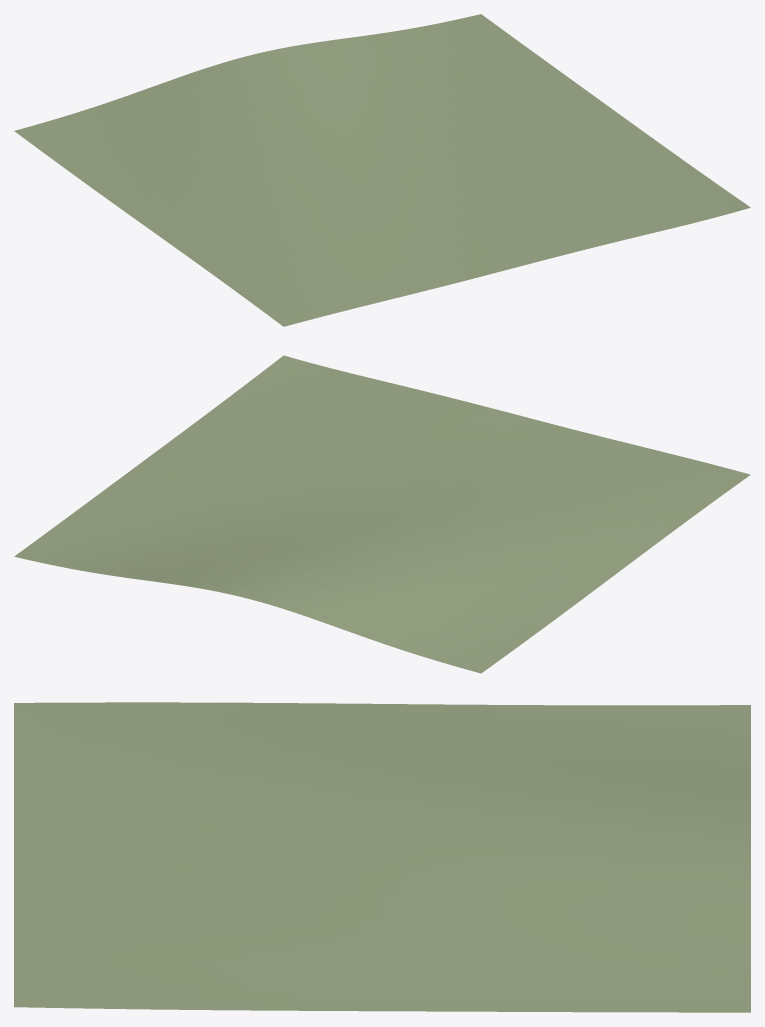
File: desert-1-8.glb
The picture shows the model from 3 angles, top to bottom: view 1: azimuth 30°, elevation 25°; view 2: azimuth 150°, elevation 25°; view 3: azimuth 270°, elevation 25°; orthographic projection. The views are drawn at different scales.
Visible parts, largest first — view 1: desert-1-8; view 2: desert-1-8; view 3: desert-1-8.
Part boxes in pixels (x1,y1,x2,y2): desert-1-8: (14, 14, 750, 326); desert-1-8: (14, 355, 750, 673); desert-1-8: (14, 702, 750, 1012).
Size of the model in its own units: 512 by 19.11 by 512.
